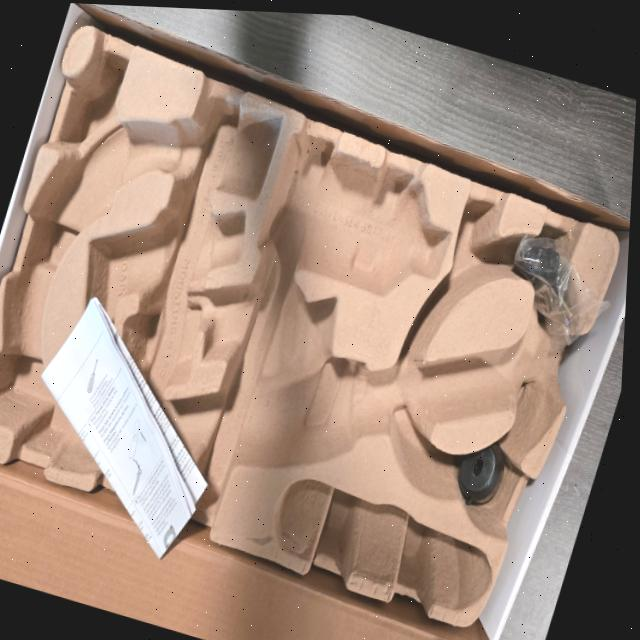1m: (9, 115, 588, 477)
2m: (75, 207, 241, 403)
3m: (256, 130, 453, 293)
4m: (277, 480, 490, 605)
5: (456, 444, 506, 507)
6m: (424, 198, 517, 326)
7: (515, 226, 617, 358)
8: (39, 293, 207, 559)
